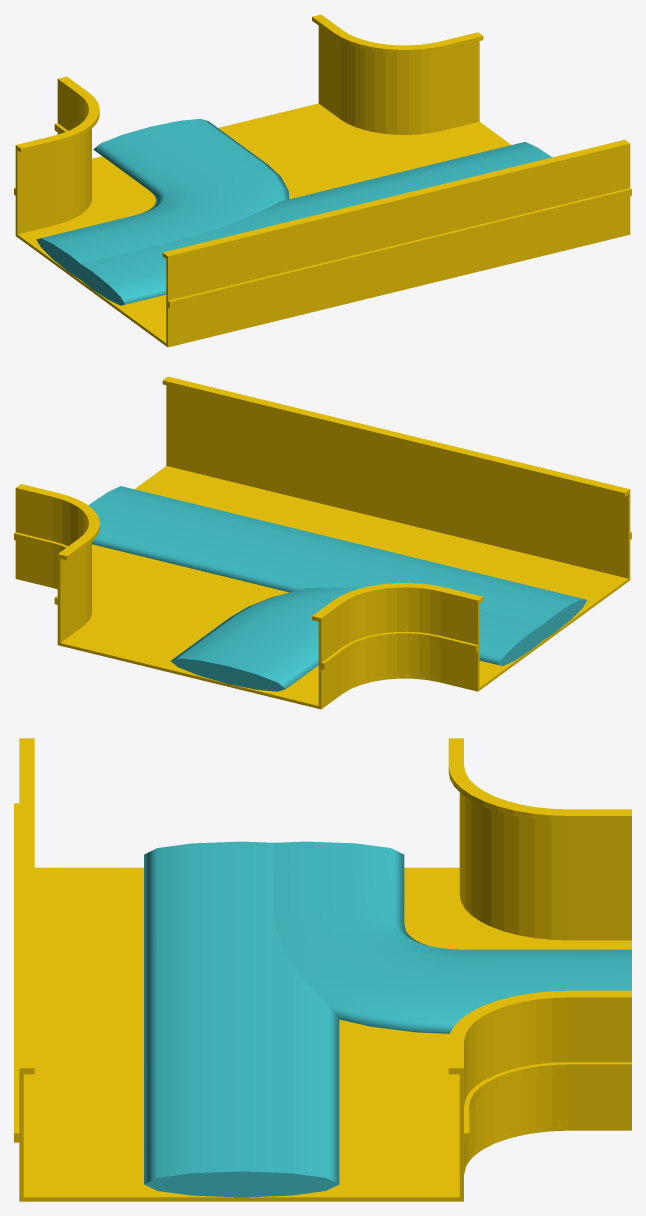
The model's file is Fiber_Tee.glb.
The picture shows the model from 3 angles, top to bottom: view 1: azimuth 30°, elevation 25°; view 2: azimuth 150°, elevation 25°; view 3: azimuth 270°, elevation 25°; orthographic projection. The views are drawn at different scales.
Parts seen in each view (by area): view 1: Wall_0, Floor.001, FLOW_fiber_branch, Wall_1, FLOW_fiber_main, Wall_2; view 2: Wall_0, Floor.001, FLOW_fiber_main, Wall_2, FLOW_fiber_branch, Wall_1; view 3: Floor.001, FLOW_fiber_main, FLOW_fiber_branch, Wall_1, Wall_2, Wall_0.
Part boxes in pixels (bbox=[...]): Wall_0: bbox=[162, 139, 631, 346]; Floor.001: bbox=[15, 103, 630, 347]; FLOW_fiber_branch: bbox=[36, 119, 289, 289]; Wall_1: bbox=[312, 14, 483, 134]; FLOW_fiber_main: bbox=[59, 142, 551, 305]; Wall_2: bbox=[14, 76, 99, 234]; Wall_0: bbox=[162, 376, 631, 580]; Floor.001: bbox=[15, 466, 630, 709]; FLOW_fiber_main: bbox=[88, 486, 587, 649]; Wall_2: bbox=[312, 583, 483, 708]; FLOW_fiber_branch: bbox=[170, 587, 552, 691]; Wall_1: bbox=[14, 484, 99, 644]; Floor.001: bbox=[19, 867, 631, 1201]; FLOW_fiber_main: bbox=[144, 841, 339, 1197]; FLOW_fiber_branch: bbox=[274, 841, 631, 1033]; Wall_1: bbox=[448, 990, 631, 1200]; Wall_2: bbox=[448, 738, 631, 940]; Wall_0: bbox=[14, 738, 34, 1200].
Size of the model in its own units: 0.6 by 0.113 by 0.475.
